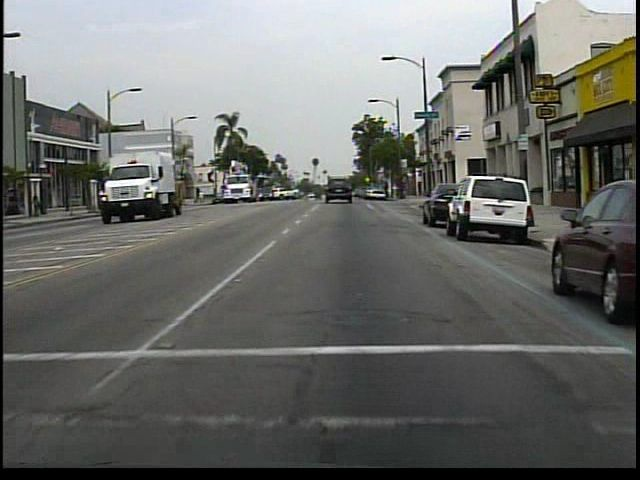person: (35, 192, 45, 219)
